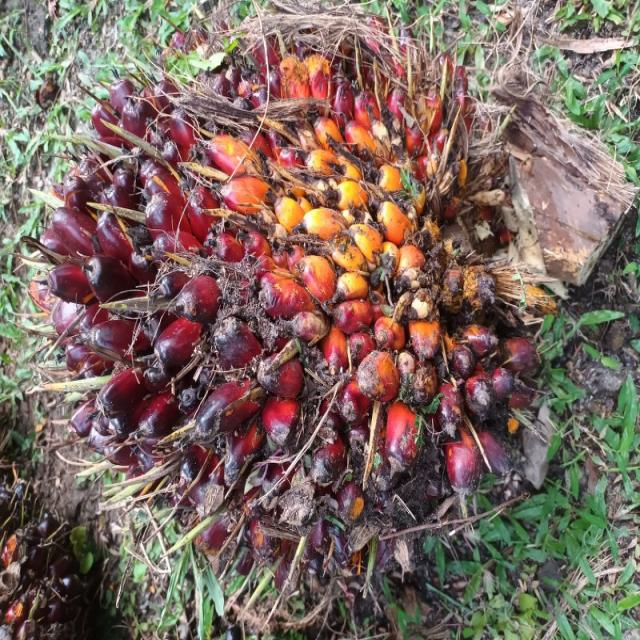fraksi 1: (22, 0, 480, 640)
